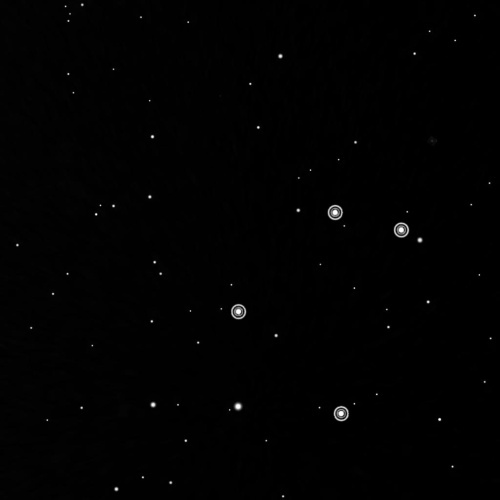coma_berenices: (224, 202, 418, 432)
